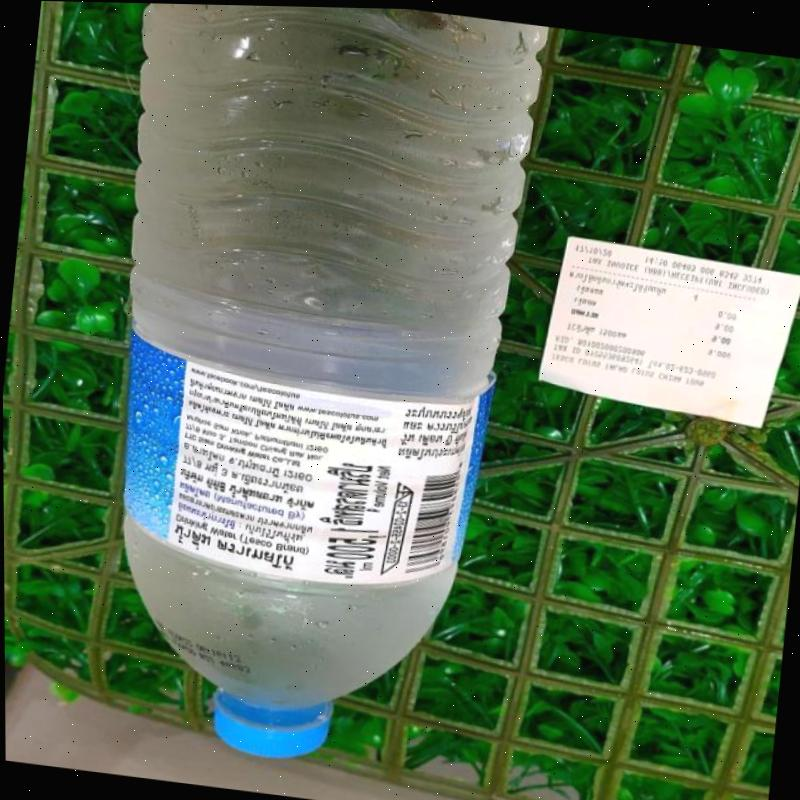botella: (63, 1, 555, 787)
